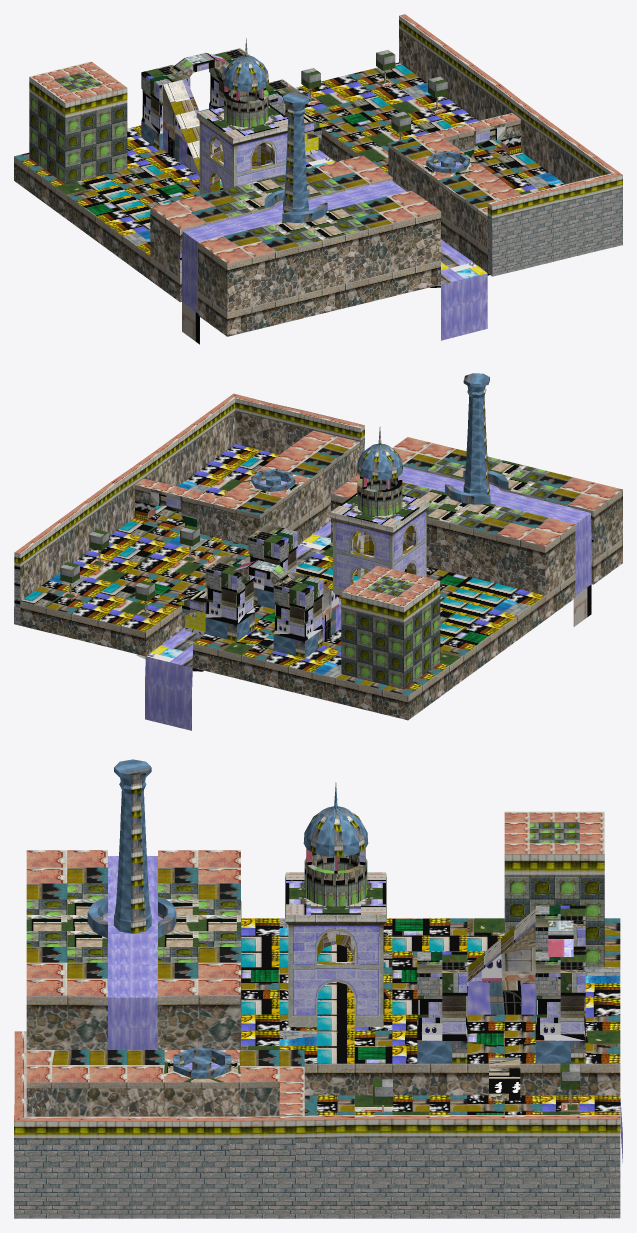
The model's file is test-zone2.glb.
3 renders of one model, top to bottom at view 1: azimuth 30°, elevation 25°; view 2: azimuth 150°, elevation 25°; view 3: azimuth 270°, elevation 25°, orthographic. The views are drawn at different scales.
Parts seen in each view (by area): view 1: Frame_0.006; view 2: Frame_0.006; view 3: Frame_0.006.
Boxes of the visible parts, x1=… form: Frame_0.006: x1=14, y1=14, x2=622, y2=344; Frame_0.006: x1=14, y1=373, x2=622, y2=730; Frame_0.006: x1=14, y1=759, x2=622, y2=1218.
Size of the model in its own units: 126 by 76.5 by 122.
Materials: 1 (1 with a texture image).
